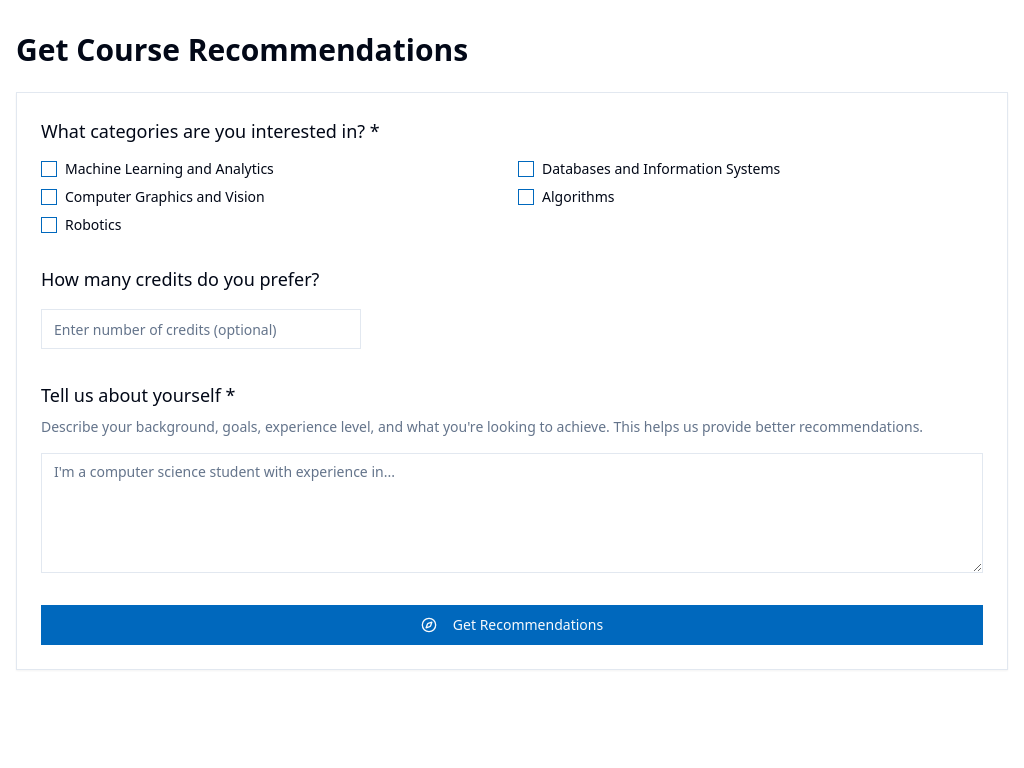
Test: Recommend Page › Recommendations Flow › shows loading state during recommendation fetch
Click the checkbox named "Machine Learning and Analytics" next to "Machine Learning and Analytics".
click(49, 169)  # box left=41, top=161, right=57, bottom=177
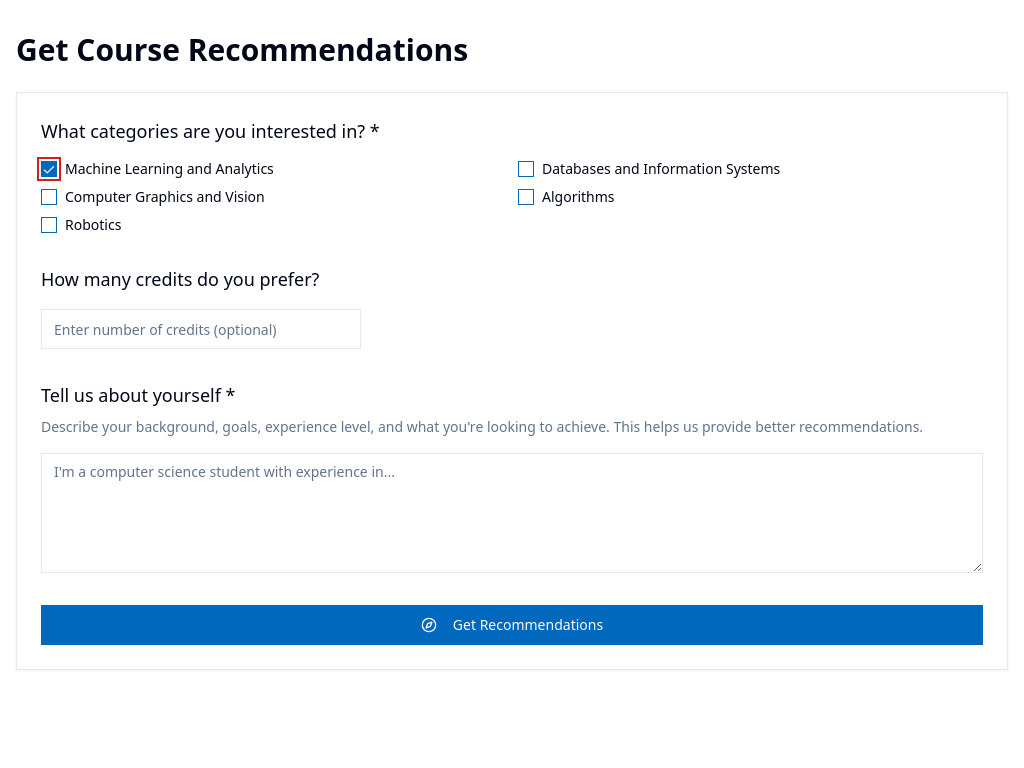
Type "I want to learn about AI" into the text box with placeholder "I'm a computer science student with experience in...".
click(512, 513); type("I want to learn about AI")  # box left=41, top=453, right=983, bottom=573
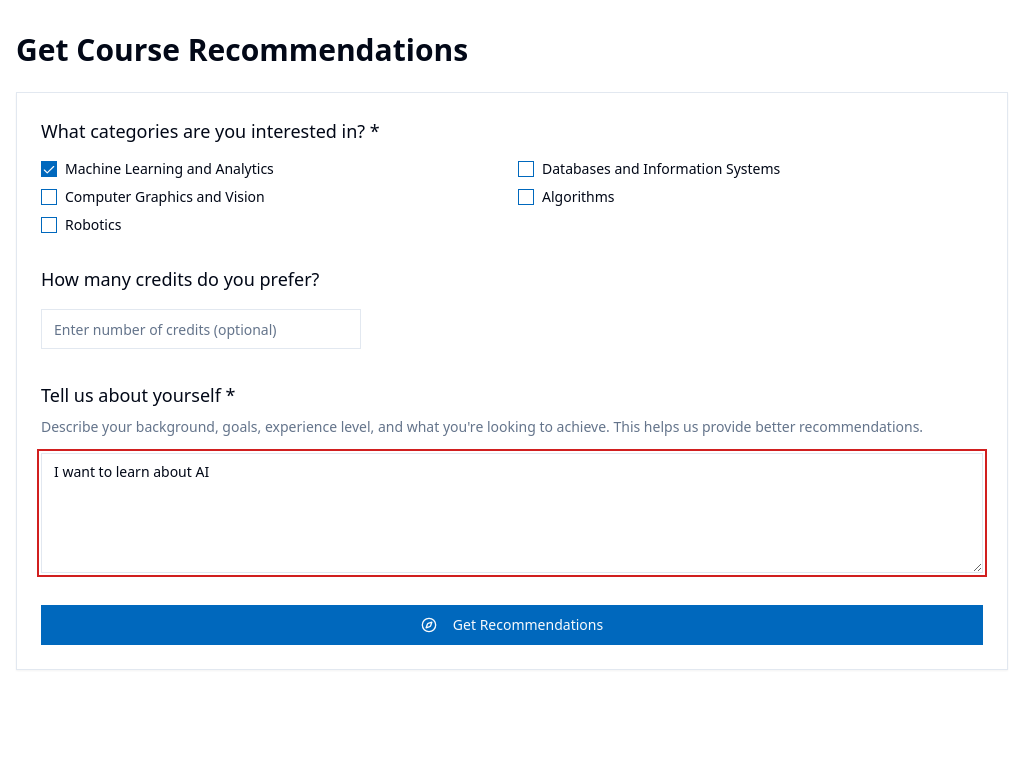
Click the button "Get Recommendations".
click(512, 625)  # box left=41, top=605, right=983, bottom=645
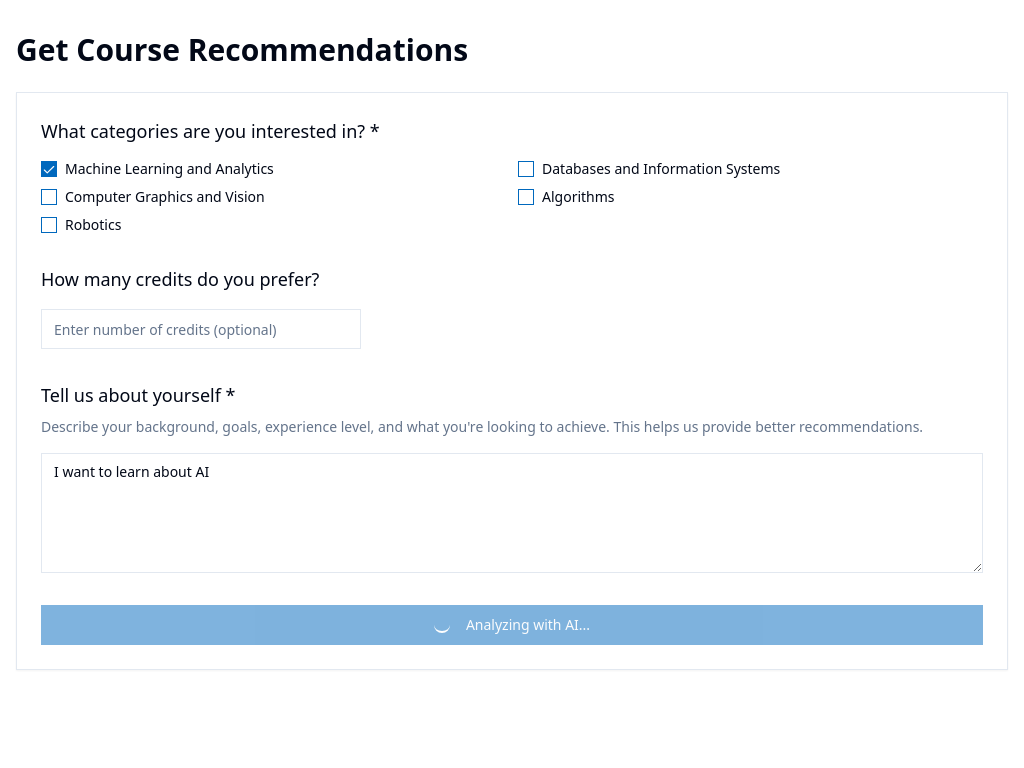
Now the button "Analyzing with AI..." is shown, box left=41, top=605, right=983, bottom=645
